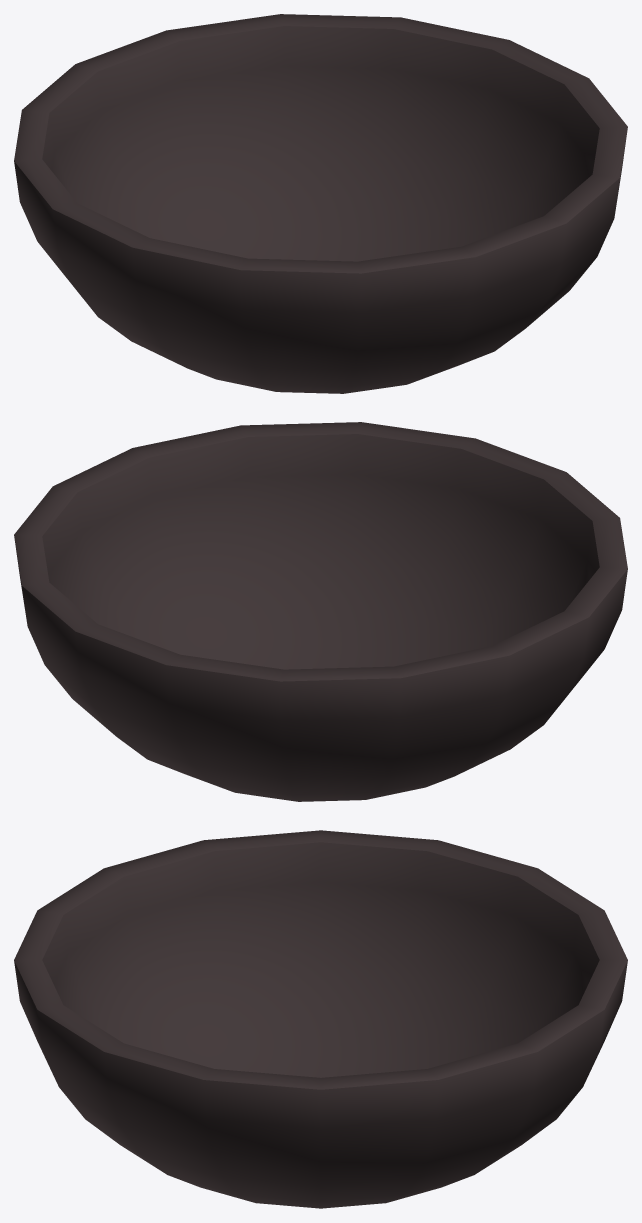
The model's file is soyusouceplate.fbx.
3 views of the same model, one above another, from view 1: azimuth 30°, elevation 25°; view 2: azimuth 150°, elevation 25°; view 3: azimuth 270°, elevation 25° (orthographic).
Parts seen in each view (by area): view 1: soyasouceplate; view 2: soyasouceplate; view 3: soyasouceplate.
Part boxes in pixels (left/top/right/bottom): soyasouceplate: left=14, top=14, right=627, bottom=393; soyasouceplate: left=14, top=422, right=627, bottom=801; soyasouceplate: left=14, top=830, right=627, bottom=1208.
Size of the model in its own units: 149 by 56.77 by 149.
